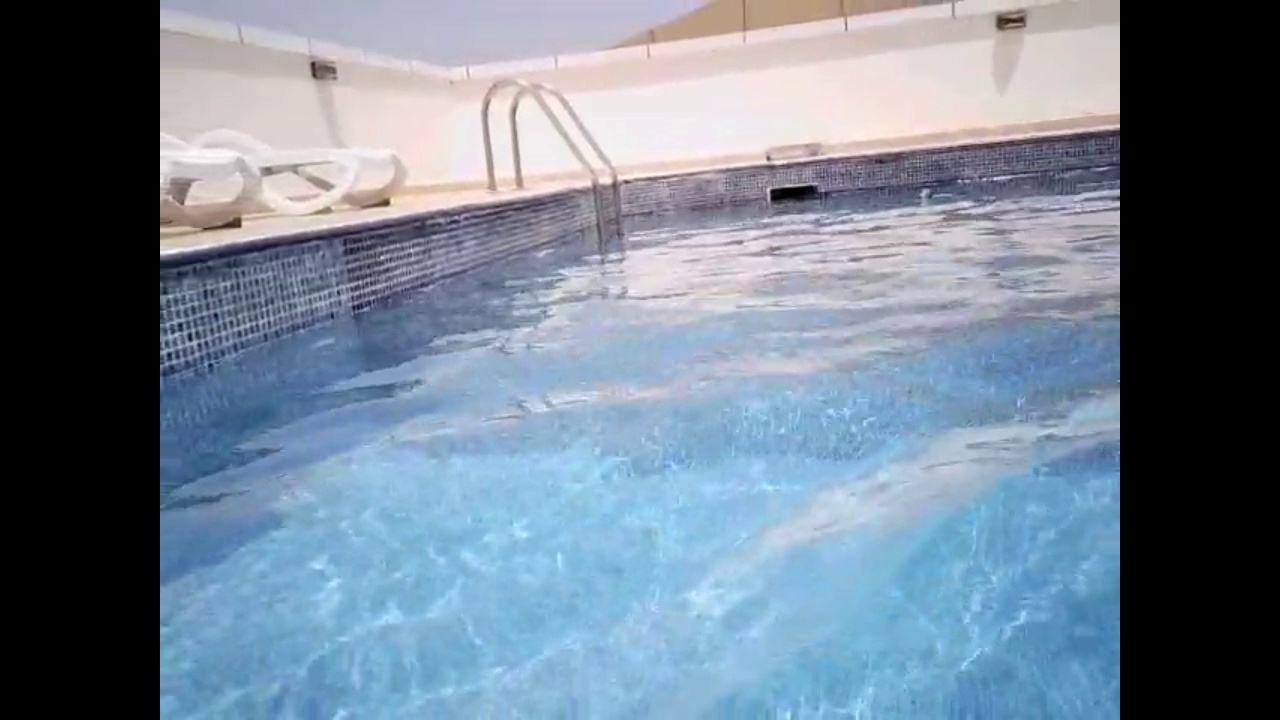debris: (917, 184, 932, 201)
